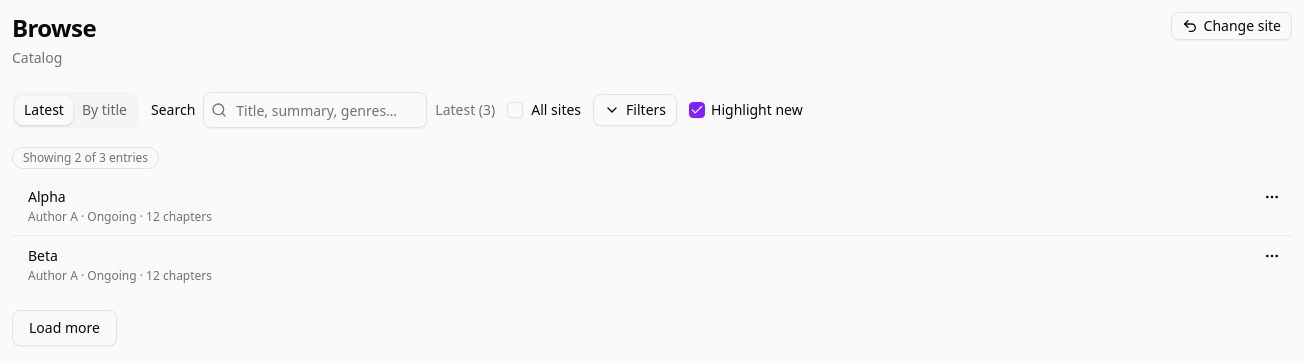
BrowsePage pagination › latest mode walks page numbers and appends entries
This screenshot has width=1304, height=363.
Check: the text "Alpha" is shown, box x1=28 y1=187 x2=66 y2=207
Check: the text "Beta" is shown, box x1=28 y1=246 x2=58 y2=266
What coordinates should you click on to do the following:
click the button "Load more"
I would click on:
 (64, 328)
Its box is x1=12 y1=310 x2=117 y2=346.
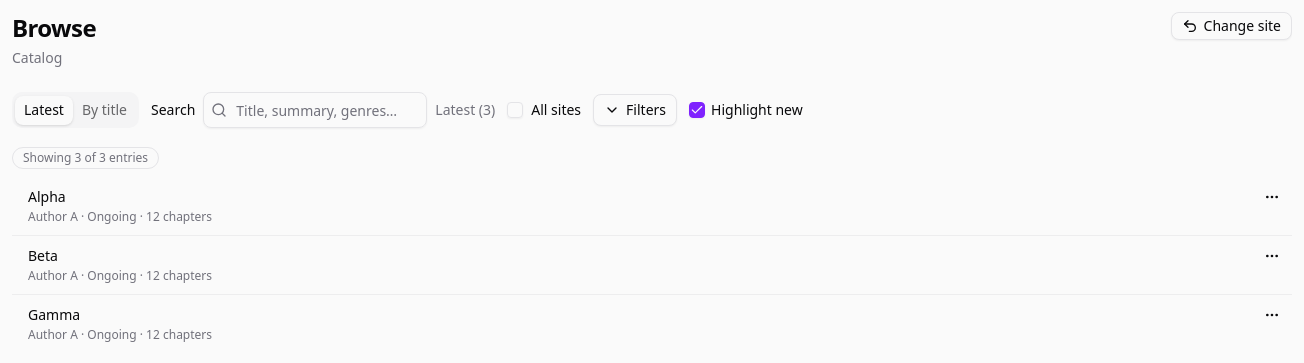
Check: the text "Gamma" is shown, box x1=28 y1=305 x2=80 y2=325
Check: the text "Showing 3 of 3 entries" is shown, box x1=12 y1=147 x2=159 y2=169
Check: the button "Load more" is gone
